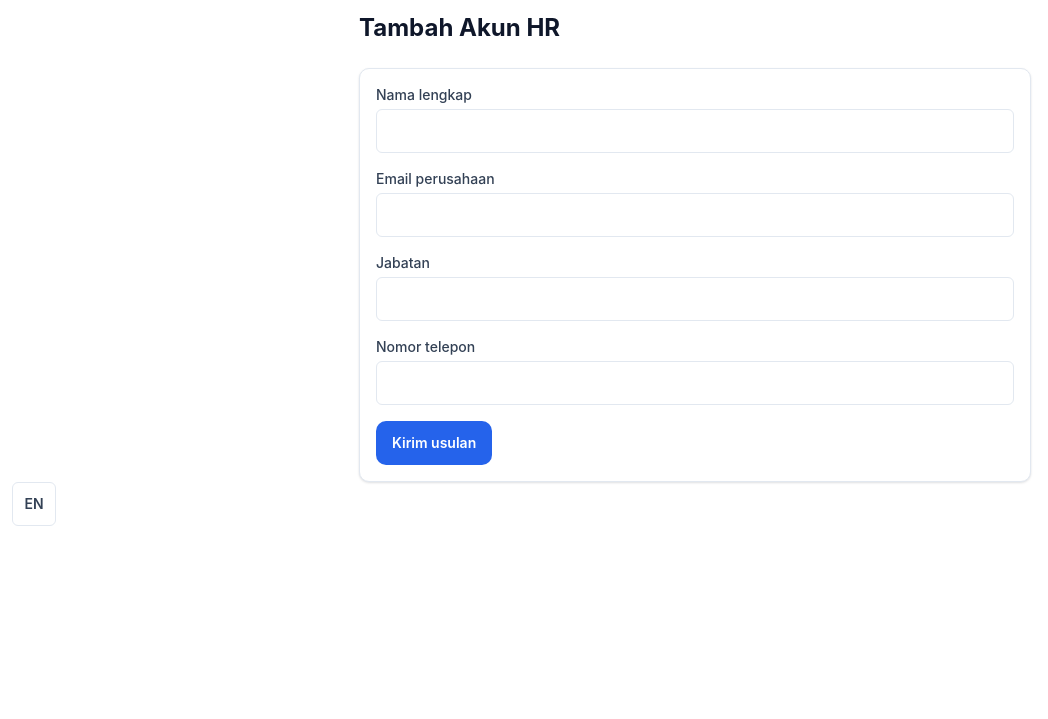
Test: HrAddPage › blocks an empty submit with per-field errors before any request
Step 1. Click the button with test id "hr-add-submit" → (434, 443), box [376,421,492,465]
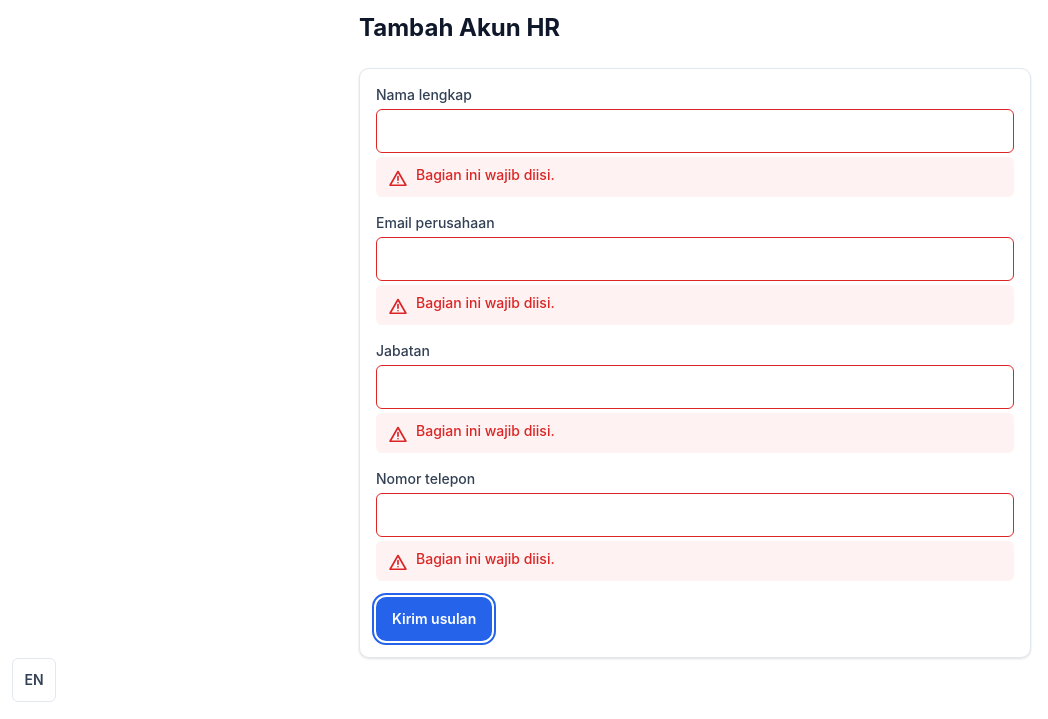
Check: the message with test id "hr-add-error-name" reads "Bagian ini wajib diisi.", box [416,166,555,183]
Check: the message with test id "hr-add-error-email" reads "Bagian ini wajib diisi.", box [416,294,555,311]
Check: the message with test id "hr-add-error-position" reads "Bagian ini wajib diisi.", box [416,422,555,439]
